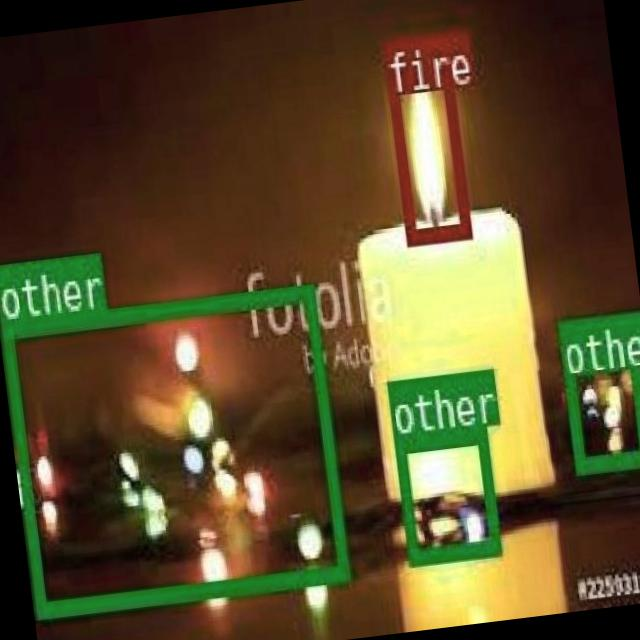fire: (380, 32, 469, 240)
